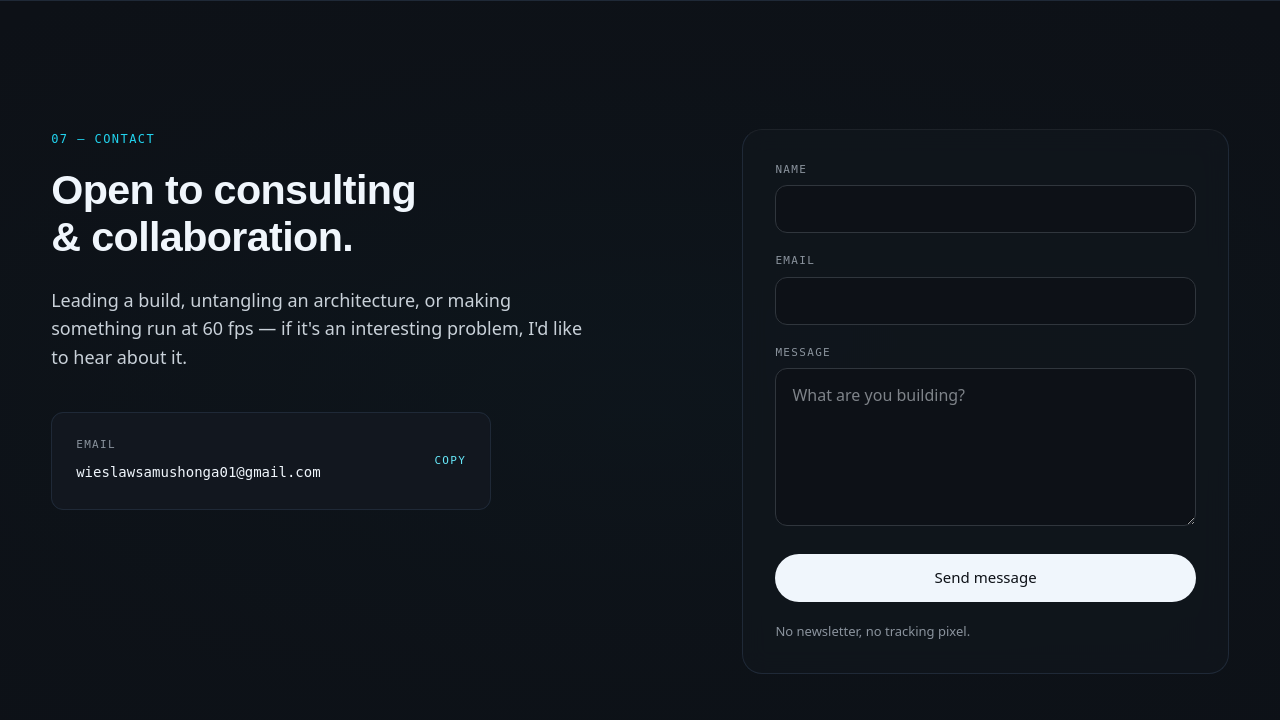
Test: Contact — form › announces an unusable address through role="alert" and sends nothing
Type "not-an-address" into the field labelled "Email" at (986, 301), box [775, 277, 1196, 325]
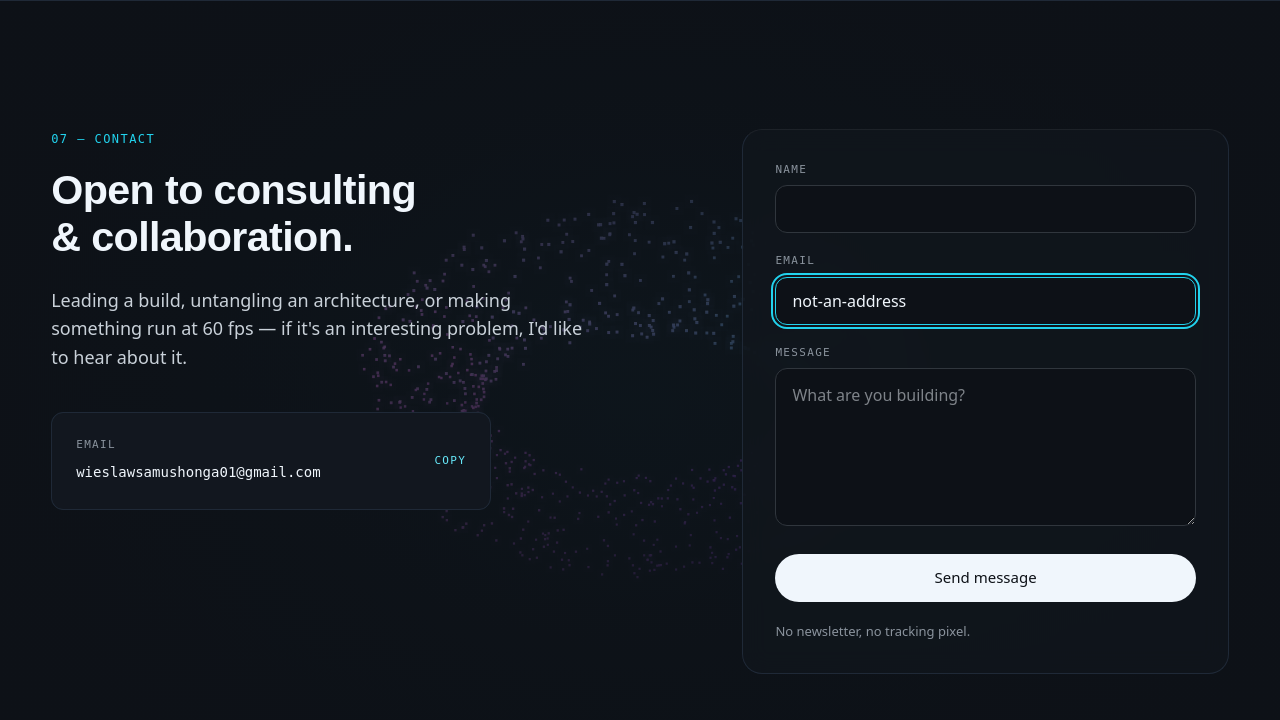
Click the button "Send message" at (986, 578), box [775, 554, 1196, 602]
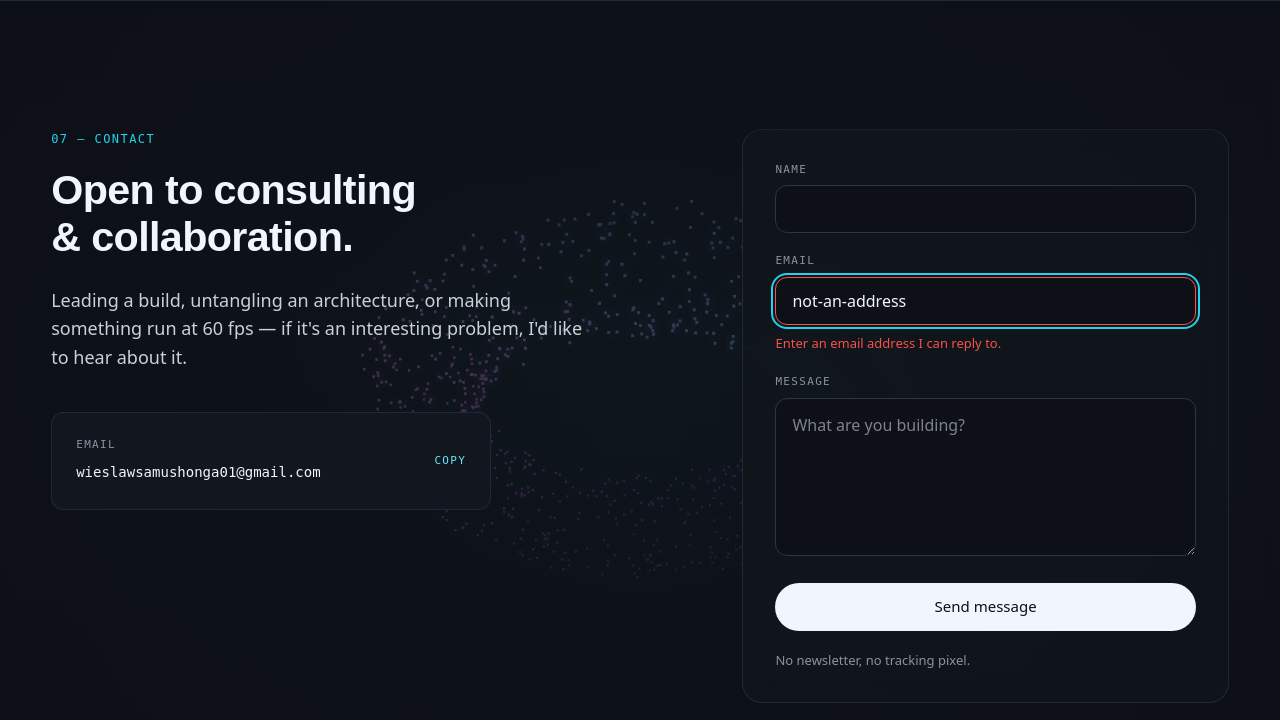
Now the message reads "Enter an email address I can reply to.", box [775, 334, 1001, 352]
